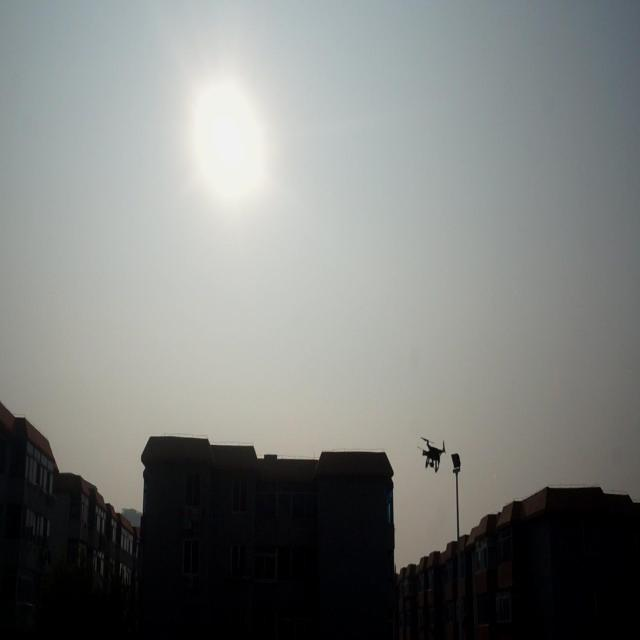drone: (417, 434, 448, 472)
